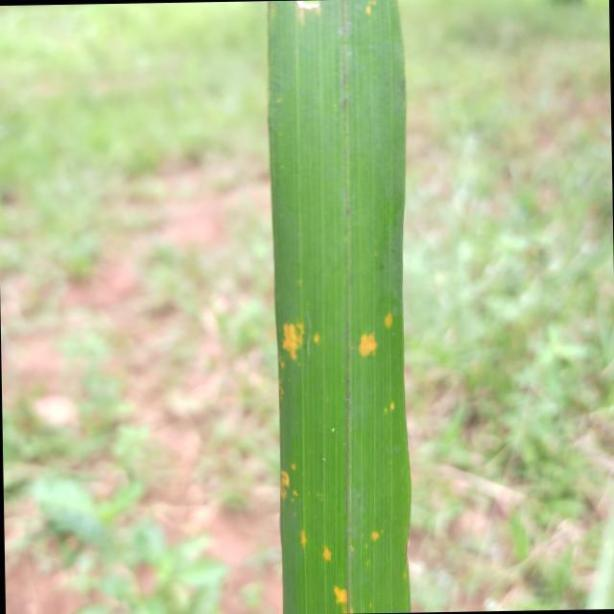Kalium: (264, 3, 408, 614)
